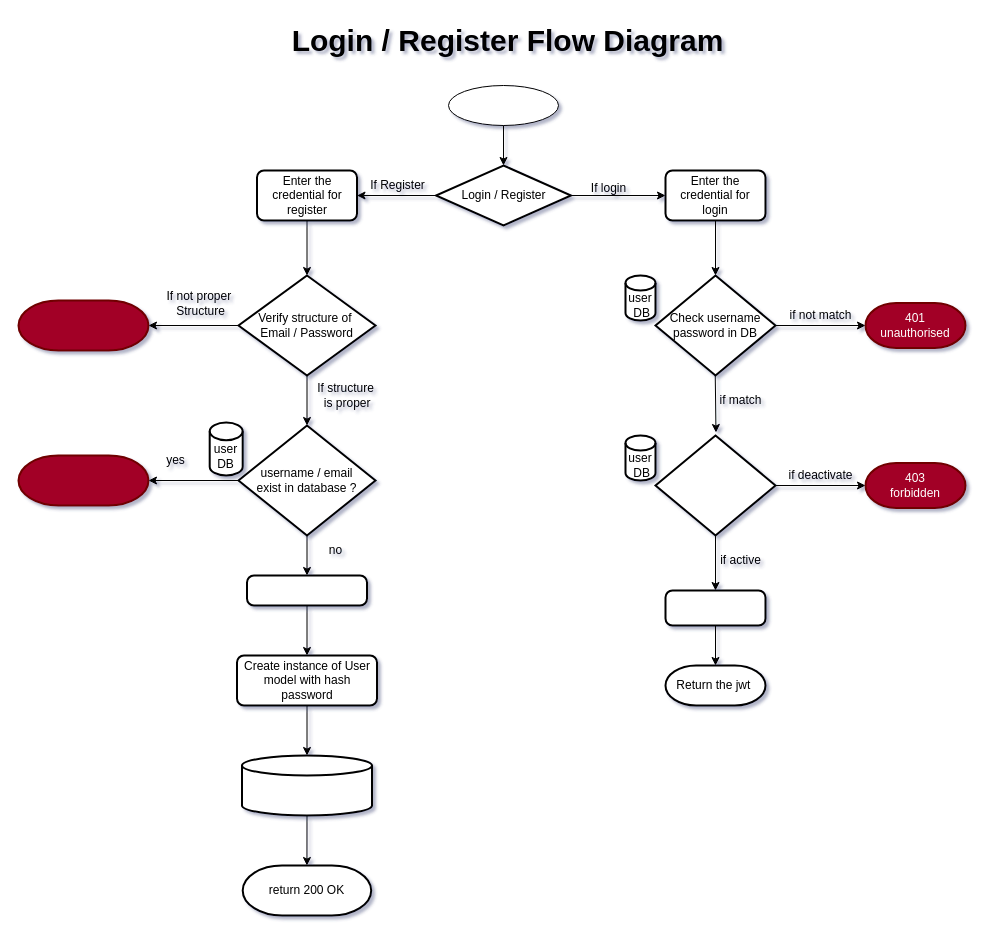
This 989x939 diagram has some shape labels left out. Each missing label, with the centre of its shape:
check the active status: pixel 715 485
Generate JWT for the current user: pixel 715 607
Hash the password: pixel 307 590
raise 409 conflict: pixel 83 480
raise 422 unprocessable data: pixel 83 325
Start: pixel 503 105
Store new user in User Table: pixel 306 785
